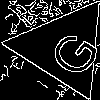G: (38, 22, 100, 81)
